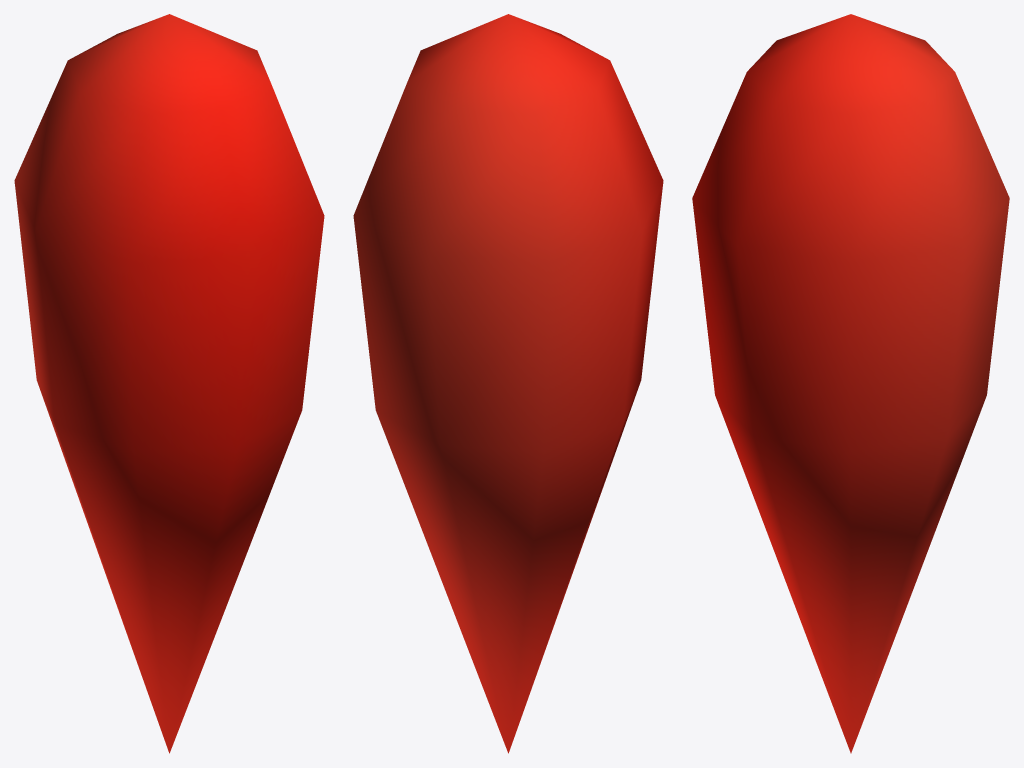
The model's file is Acid spit.fbx.
3 views of the same model, side by side, from view 1: azimuth 30°, elevation 25°; view 2: azimuth 150°, elevation 25°; view 3: azimuth 270°, elevation 25° (orthographic).
Parts seen in each view (by area): view 1: Cube; view 2: Cube; view 3: Cube.
Part boxes in pixels (bbox=[...]): Cube: bbox=[14, 14, 324, 753]; Cube: bbox=[353, 14, 663, 753]; Cube: bbox=[692, 14, 1009, 753].
Size of the model in its own units: 8.16 by 21.54 by 8.37.
